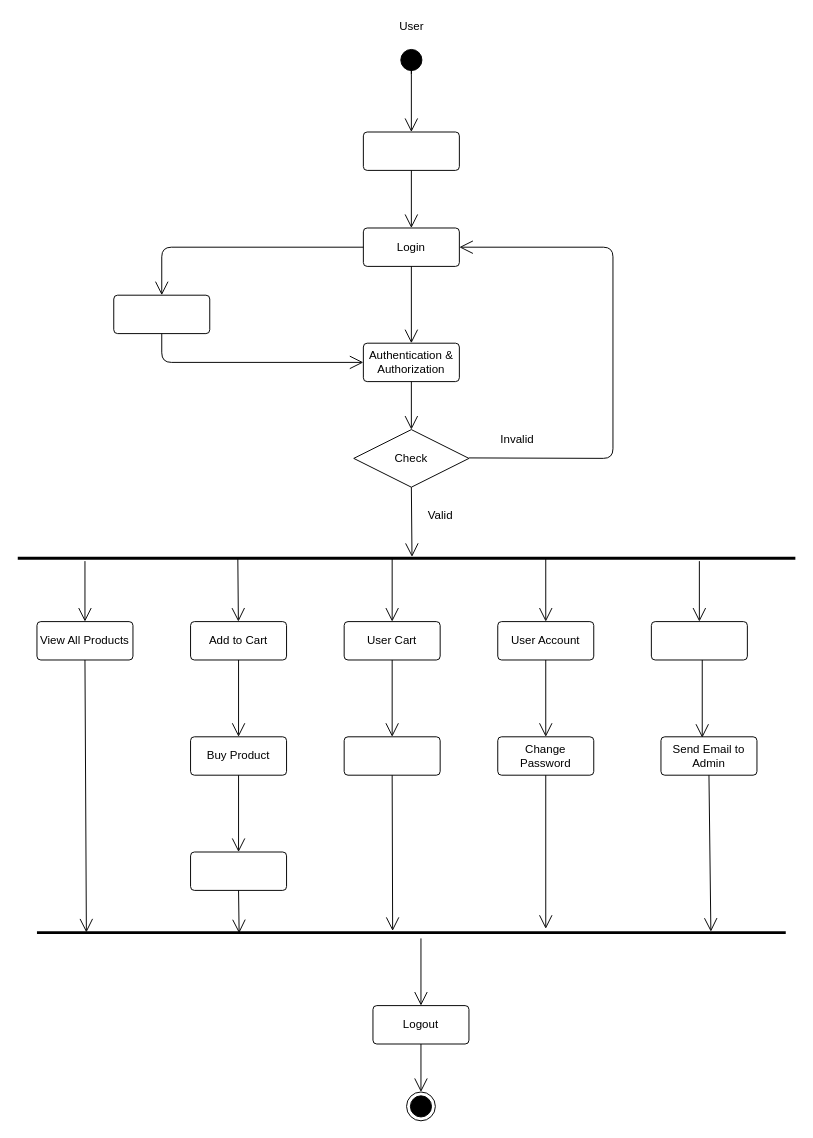
Some shapes in this 813 by 1138 pixel diagram are drawn without their labels. Here are the shapes that lost their labels. From the top down, the centre of each, then its label:
At point (410, 150): "Register".
At point (161, 314): "Forgot Password".
At point (698, 640): "Contact Admin".
At point (391, 755): "User Orders".
At point (238, 870): "Get Bill by Email".
